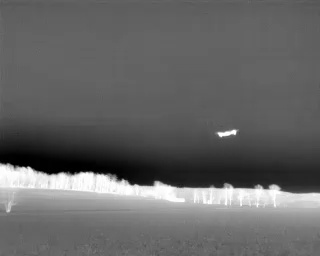DRONE: (212, 124, 243, 143)
